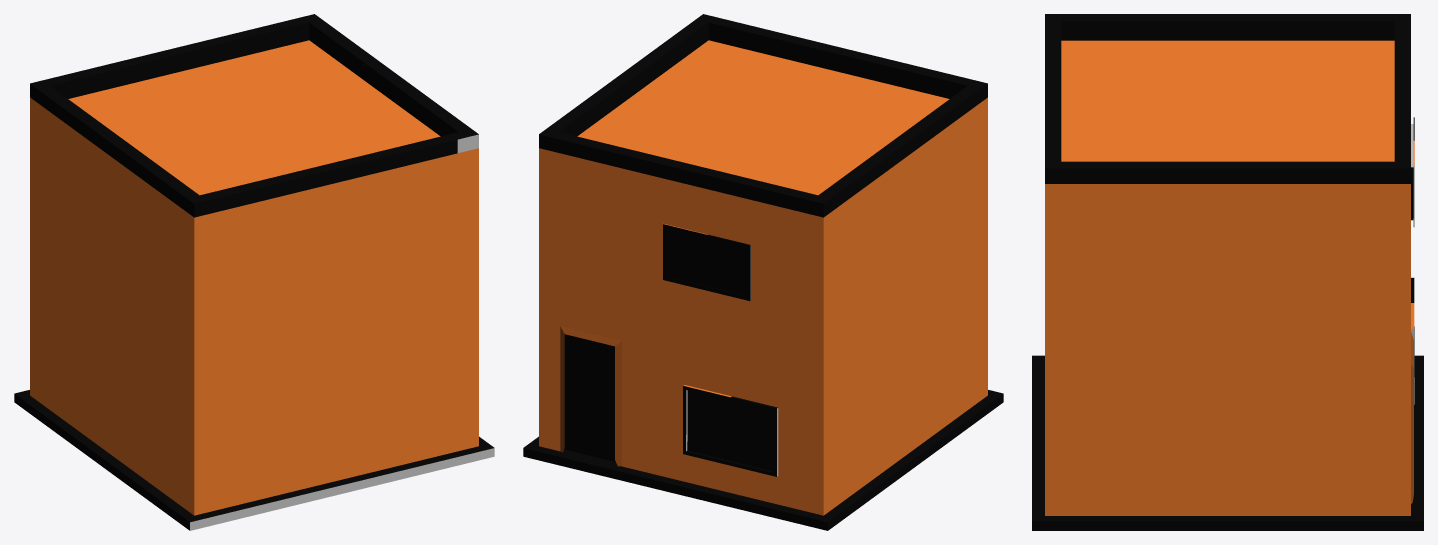
The model's file is house.obj.
The picture shows the model from 3 angles, left to right: view 1: azimuth 30°, elevation 25°; view 2: azimuth 150°, elevation 25°; view 3: azimuth 270°, elevation 25°; orthographic projection. The views are drawn at different scales.
Visible parts, largest first — view 1: Cube; view 2: Cube; view 3: Cube.
Part boxes in pixels (x1,y1,x2,y2): Cube: (14, 14, 494, 530); Cube: (523, 14, 1003, 530); Cube: (1032, 14, 1423, 530).
Size of the model in its own units: 4.93 by 4.96 by 4.93.
